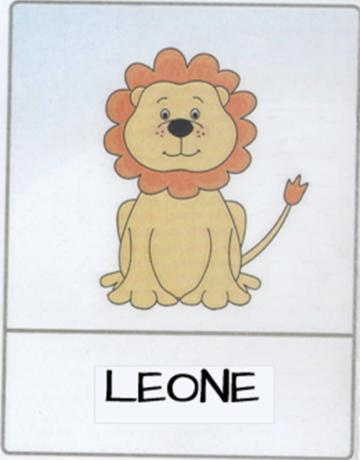leone: (2, 5, 360, 460)
